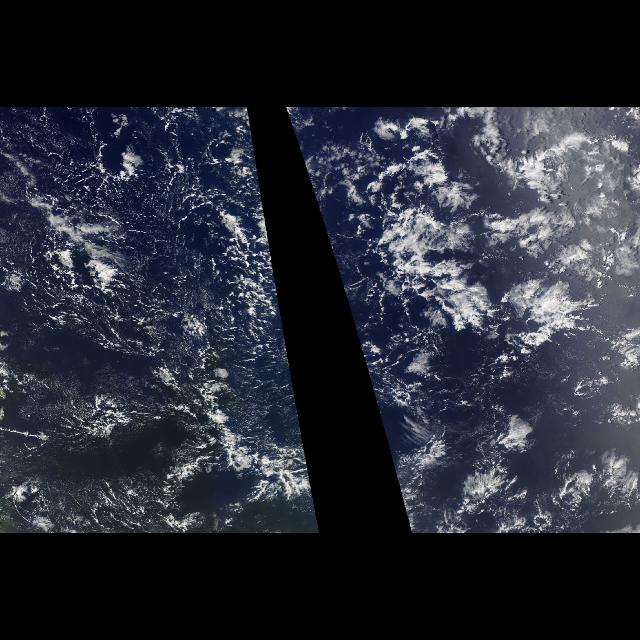Flower: (470, 180, 640, 532)
Gravel: (12, 115, 268, 387), (301, 126, 443, 388)
